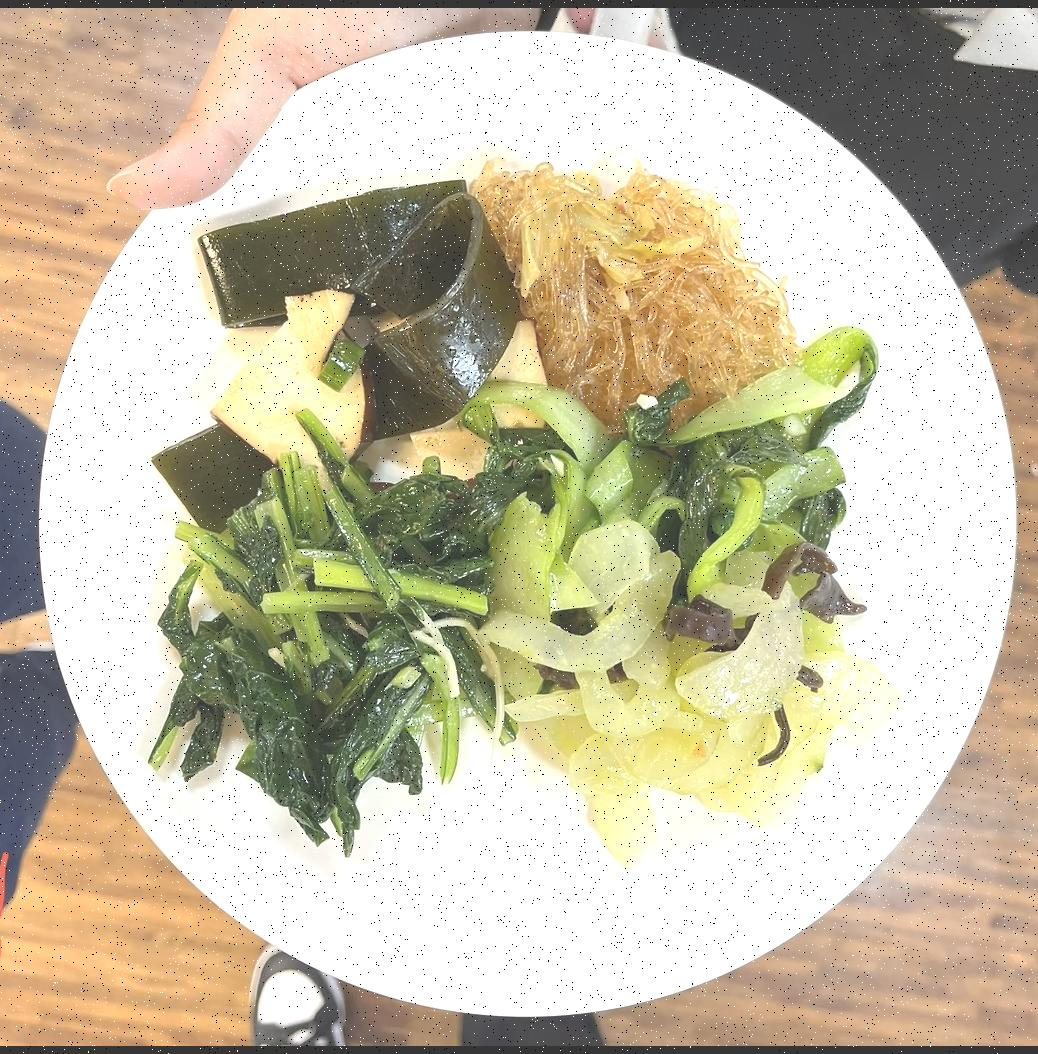plate: (30, 25, 1036, 1020)
side dish: (146, 469, 518, 828), (156, 178, 508, 503), (498, 566, 896, 840), (504, 345, 883, 570), (496, 159, 786, 413)
